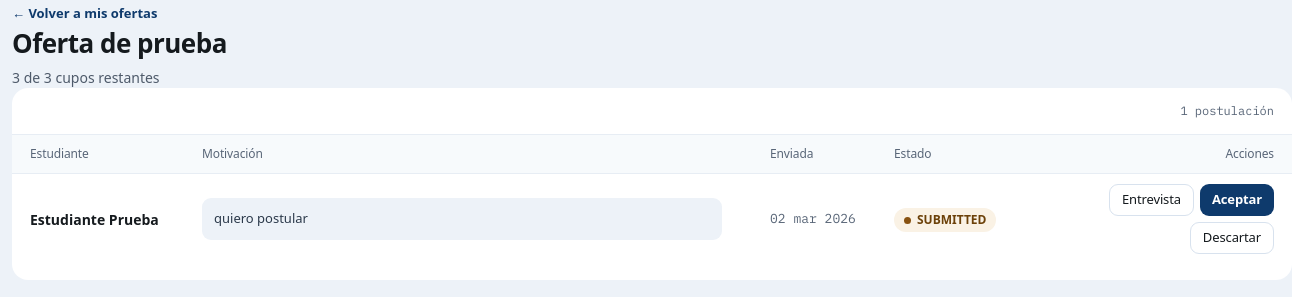
Test case: OfferApplicationsPage — mensajes de error de carga (F-1b) › cuando falla la recarga tras decidir: un error que no es de la API, con el mensaje por defecto
Click the button "Aceptar": (1237, 200) [1200,184,1274,216]
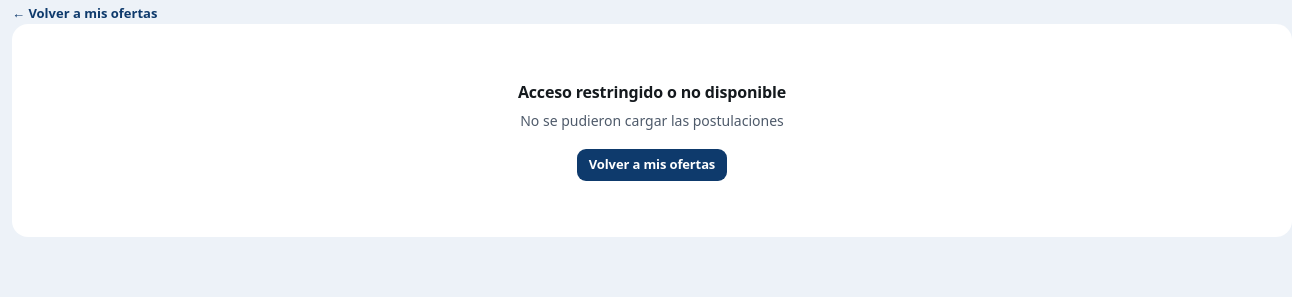
Expected: the text "No se pudieron cargar las postulaciones" is shown, [520,110,784,131]
Expected: the text "Acceso restringido o no disponible" is shown, [518,80,786,104]
